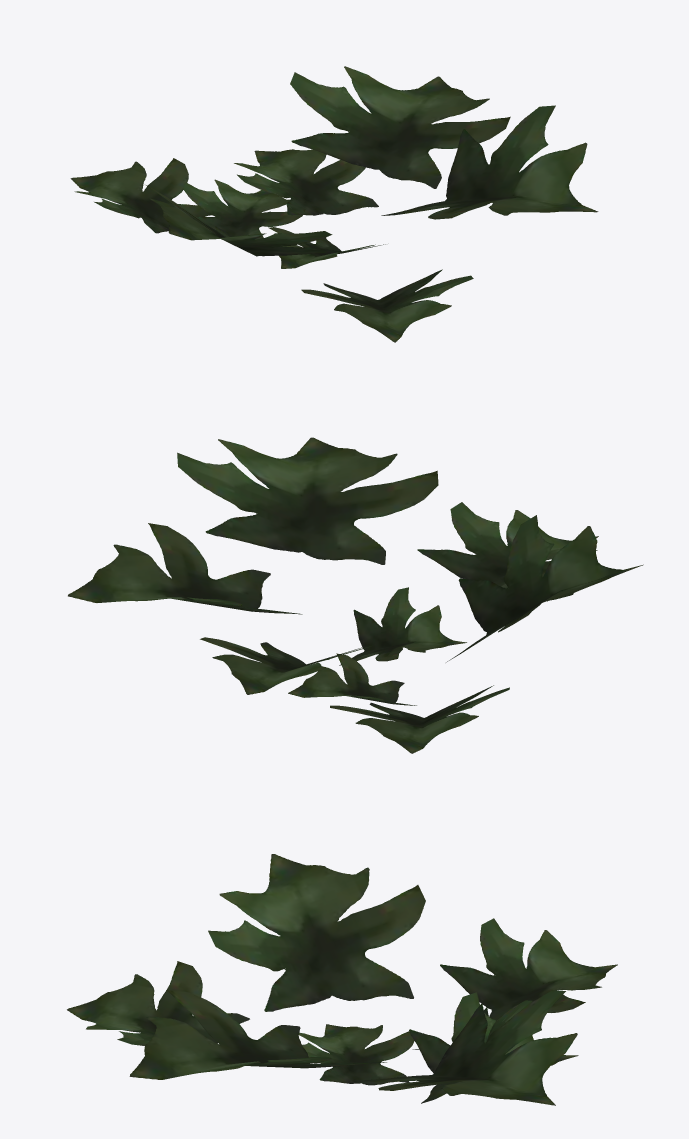
3 views of the same model, one above another, from view 1: azimuth 30°, elevation 25°; view 2: azimuth 150°, elevation 25°; view 3: azimuth 270°, elevation 25° (orthographic). The views are drawn at different scales.
Parts seen in each view (by area): view 1: body0_model0_lod0_mesh0; view 2: body0_model0_lod0_mesh0; view 3: body0_model0_lod0_mesh0.
Boxes of the visible parts, x1=… form: body0_model0_lod0_mesh0: x1=70, y1=66, x2=598, y2=342; body0_model0_lod0_mesh0: x1=68, y1=437, x2=643, y2=753; body0_model0_lod0_mesh0: x1=67, y1=854, x2=617, y2=1105.
Bounding box in the file's own units: 189 × 49.33 × 187.
Materials: 1 (1 with a texture image).
